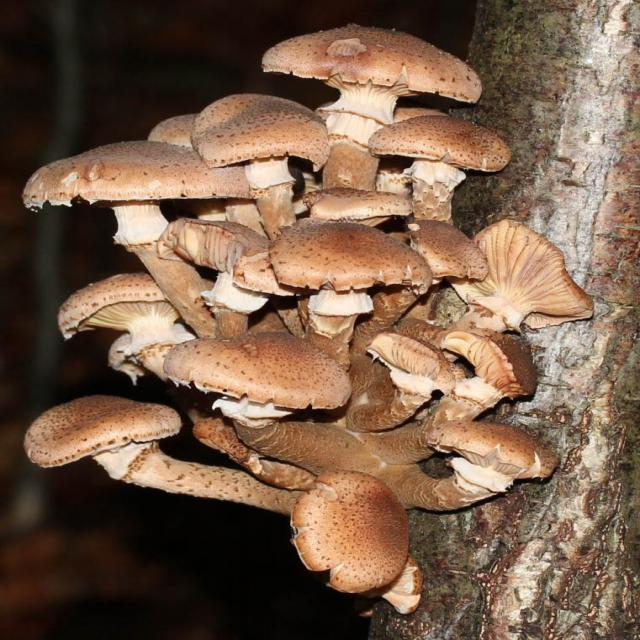Armillaria mellea: (27, 25, 591, 615)
